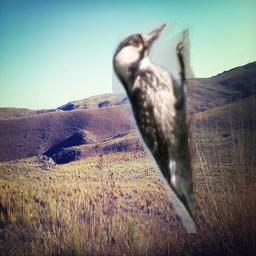Woodpecker: (112, 21, 196, 233)
